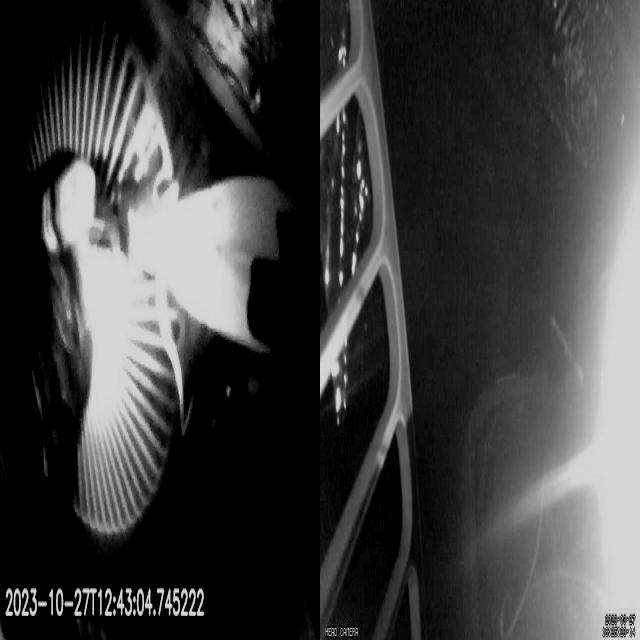head: (42, 161, 95, 250)
